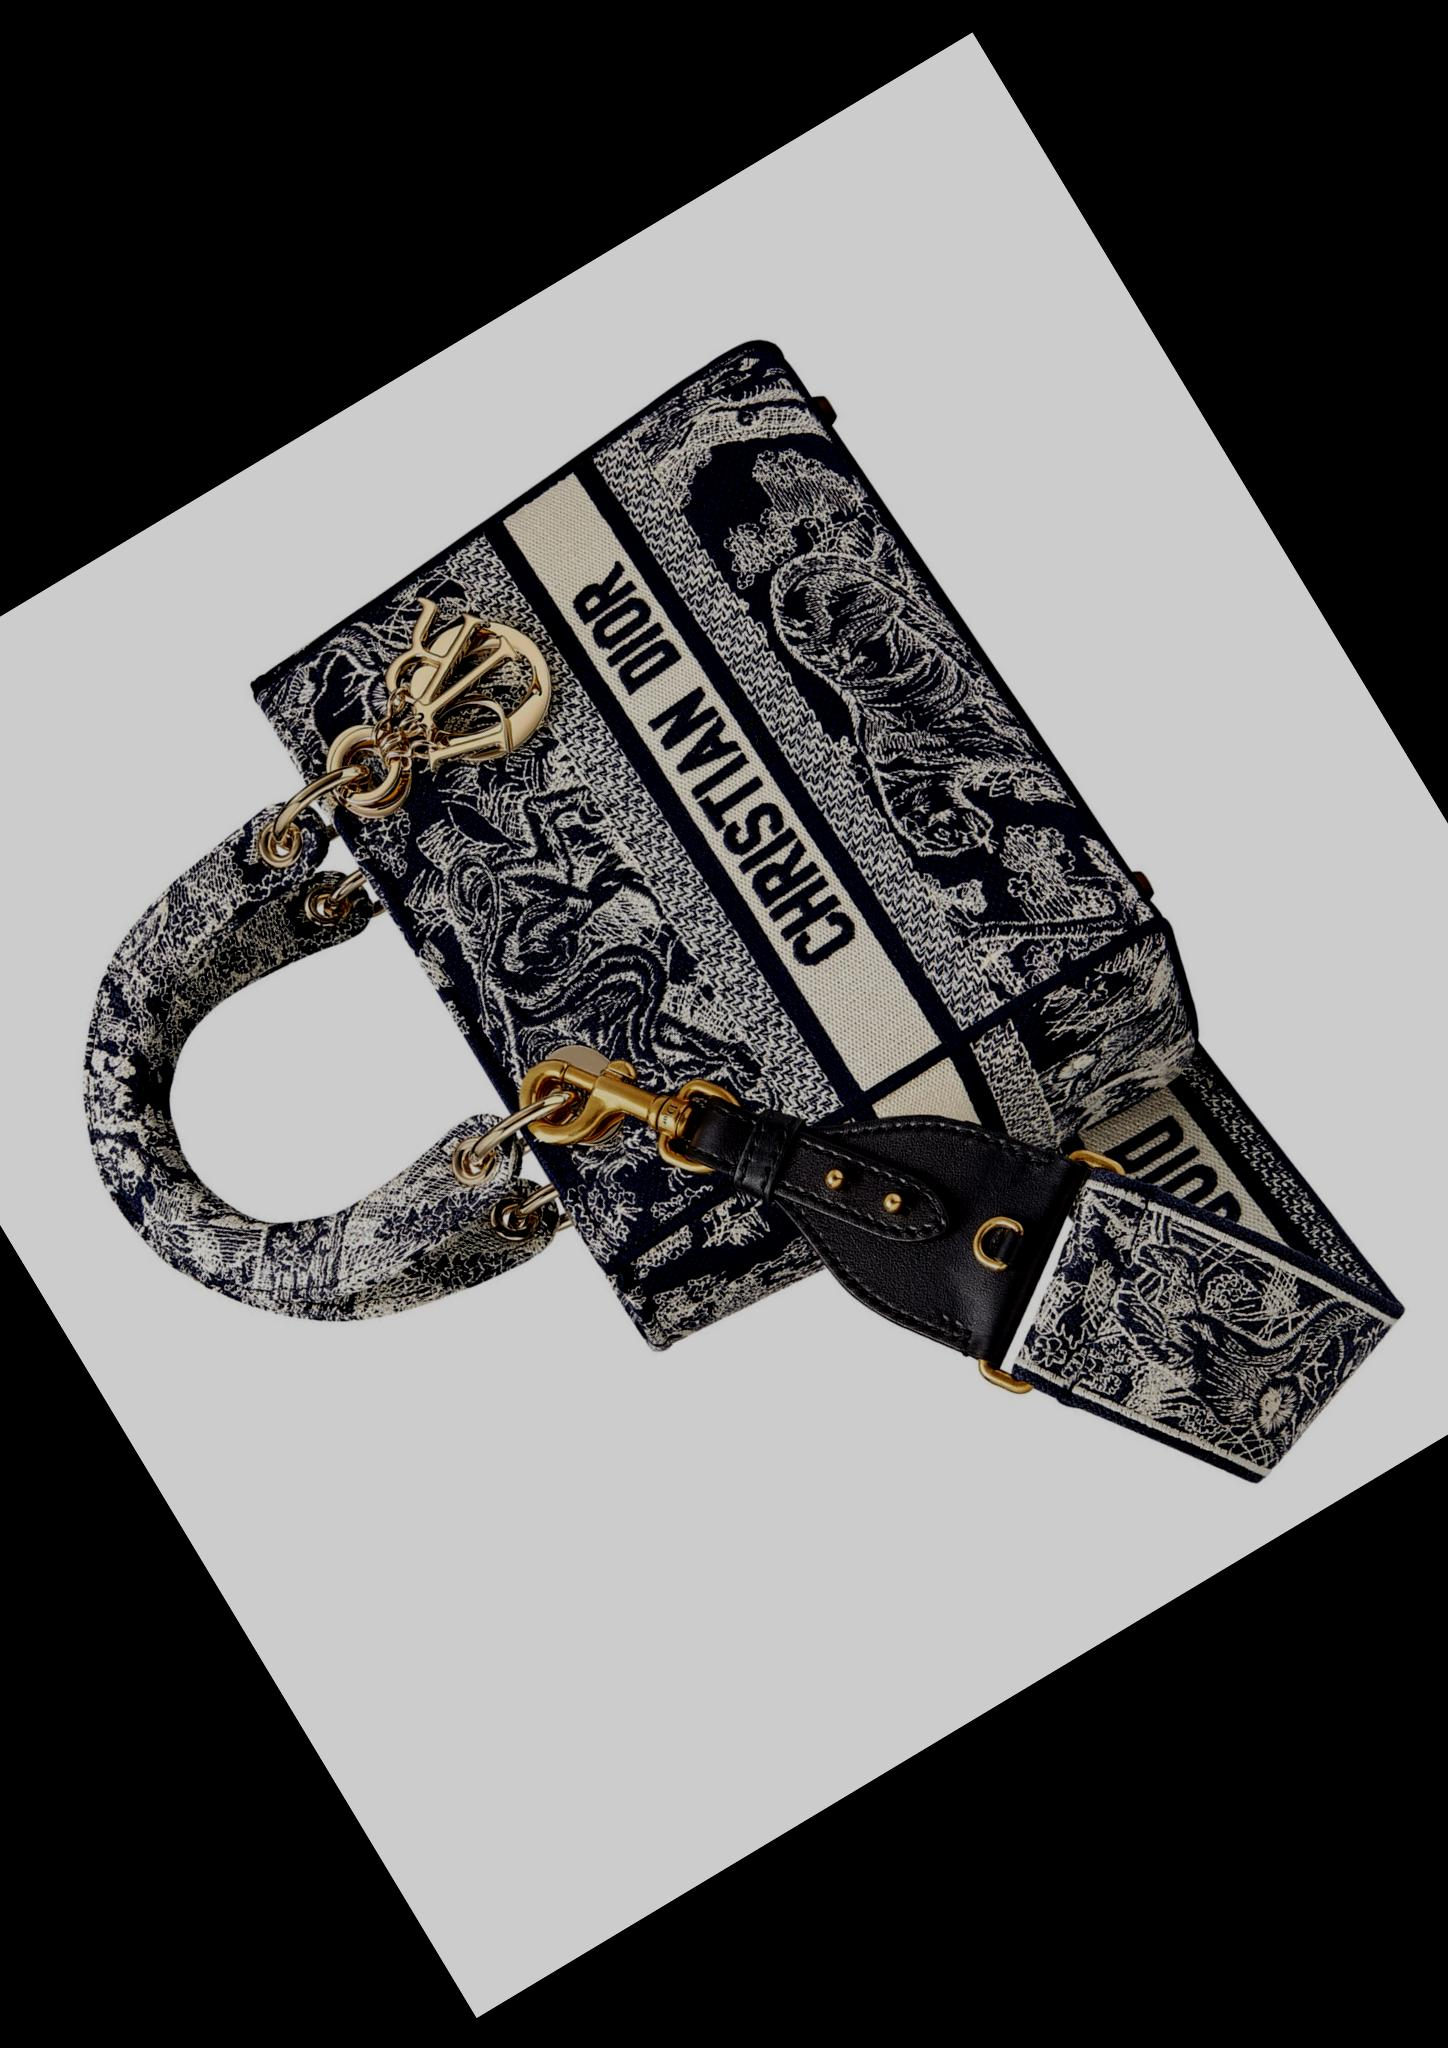DIOR: (486, 476, 921, 1026)
